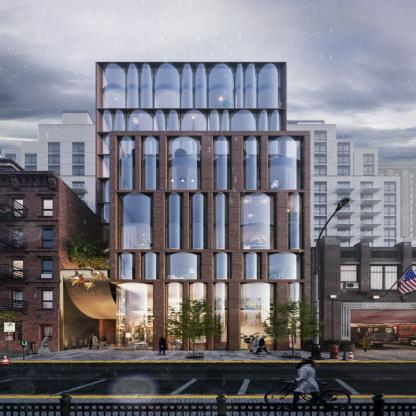Building Outline: (60, 61, 311, 351)
Deco: (71, 286, 105, 298), (65, 270, 86, 286), (88, 266, 104, 281), (83, 279, 96, 290)
Facade: (59, 61, 311, 352)
Glass Wall: (102, 63, 282, 108), (102, 110, 282, 132)
Window: (116, 283, 153, 350), (241, 283, 274, 350), (241, 193, 274, 249), (119, 193, 151, 249), (268, 137, 302, 189), (169, 137, 200, 189), (166, 283, 182, 350), (190, 283, 206, 350), (190, 193, 206, 249), (166, 253, 200, 279), (214, 283, 227, 350), (270, 253, 303, 279), (166, 193, 181, 249), (143, 137, 159, 189), (214, 137, 230, 189), (118, 137, 134, 189), (290, 283, 302, 350), (215, 193, 228, 249), (289, 193, 302, 249), (245, 137, 259, 189), (117, 253, 135, 279), (244, 253, 260, 279), (214, 253, 230, 279), (142, 253, 158, 279), (102, 180, 112, 202), (102, 157, 112, 178), (102, 205, 112, 224), (102, 134, 112, 153)
